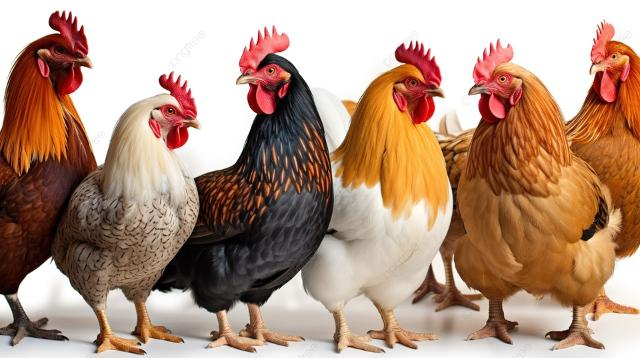Chicken: (156, 19, 333, 353), (301, 39, 456, 356), (452, 39, 607, 353), (53, 73, 202, 358), (1, 8, 98, 346), (574, 20, 640, 259)
